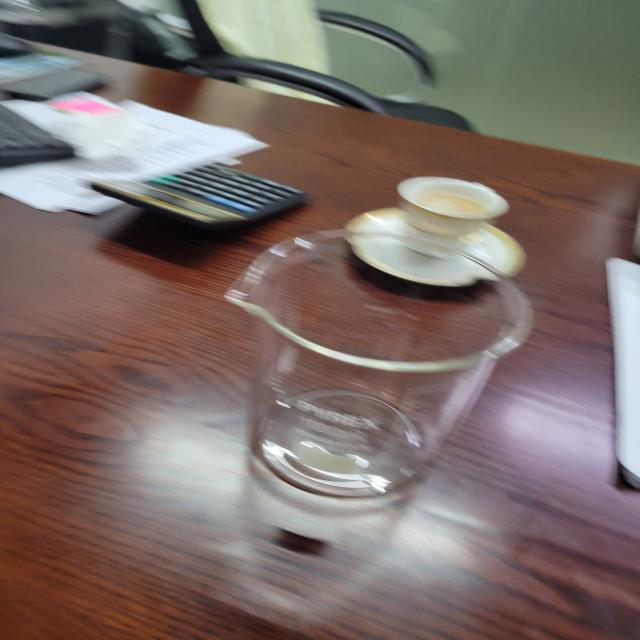Beaker: (180, 205, 553, 534)
